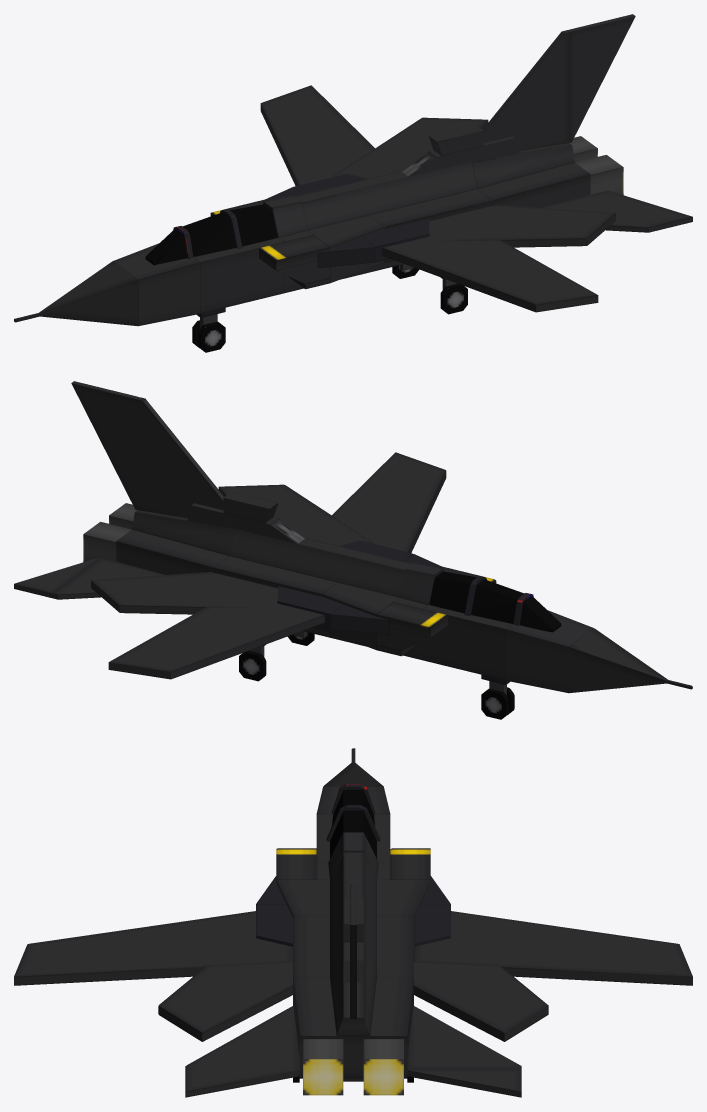
Rendered from jet.obj.
3 renders of one model, top to bottom at view 1: azimuth 30°, elevation 25°; view 2: azimuth 150°, elevation 25°; view 3: azimuth 270°, elevation 25°, orthographic. The views are drawn at different scales.
Visible parts, largest first — view 1: leftWingPos2Model0, rightWingPos2Model0, tailModel7, leftWingPos1Model0, bodyModel35, bodyModel8, bodyModel0, yawFlapModel0, noseModel0, rightWingPos1Model0, tailModel0, tailModel1 (+16 smaller); view 2: rightWingPos2Model0, leftWingPos2Model0, tailModel7, rightWingPos1Model0, bodyModel35, bodyModel6, bodyModel0, yawFlapModel0, noseModel0, leftWingPos1Model0, tailModel0, tailModel1 (+16 smaller); view 3: rightWingPos2Model0, leftWingPos2Model0, leftWingPos1Model0, rightWingPos1Model0, tailModel0, bodyModel34, tailModel9, tailModel8, bodyModel35, bodyModel23, tailModel1, tailModel4 (+17 smaller).
Boxes of the visible parts, <box> form: leftWingPos2Model0: <box>375,225,598,312</box>; rightWingPos2Model0: <box>260,85,396,185</box>; tailModel7: <box>482,30,569,151</box>; leftWingPos1Model0: <box>384,205,615,247</box>; bodyModel35: <box>295,162,476,230</box>; bodyModel8: <box>193,238,283,313</box>; bodyModel0: <box>113,243,199,326</box>; yawFlapModel0: <box>567,14,635,142</box>; noseModel0: <box>39,261,137,326</box>; rightWingPos1Model0: <box>331,117,488,178</box>; tailModel0: <box>477,162,590,207</box>; tailModel1: <box>472,143,574,189</box>; rightWingPos2Model0: <box>108,603,324,679</box>; leftWingPos2Model0: <box>309,452,446,552</box>; tailModel7: <box>137,397,224,518</box>; rightWingPos1Model0: <box>91,572,283,614</box>; bodyModel35: <box>230,529,411,597</box>; bodyModel6: <box>423,605,513,680</box>; bodyModel0: <box>507,610,593,693</box>; yawFlapModel0: <box>71,381,139,509</box>; noseModel0: <box>569,628,667,693</box>; leftWingPos1Model0: <box>218,484,374,545</box>; tailModel0: <box>116,529,229,574</box>; tailModel1: <box>132,510,235,556</box>; rightWingPos2Model0: <box>414,911,692,985</box>; leftWingPos2Model0: <box>14,911,292,985</box>; leftWingPos1Model0: <box>158,945,293,1041</box>; rightWingPos1Model0: <box>413,951,548,1041</box>; tailModel0: <box>293,977,413,1078</box>; bodyModel34: <box>293,915,413,977</box>; tailModel9: <box>185,1006,299,1069</box>; tailModel8: <box>407,1006,521,1068</box>; bodyModel35: <box>330,852,376,977</box>; bodyModel23: <box>276,879,430,917</box>; tailModel1: <box>330,951,376,1035</box>; tailModel4: <box>303,1039,343,1095</box>.
Size of the model in its own units: 252 by 89 by 202.
